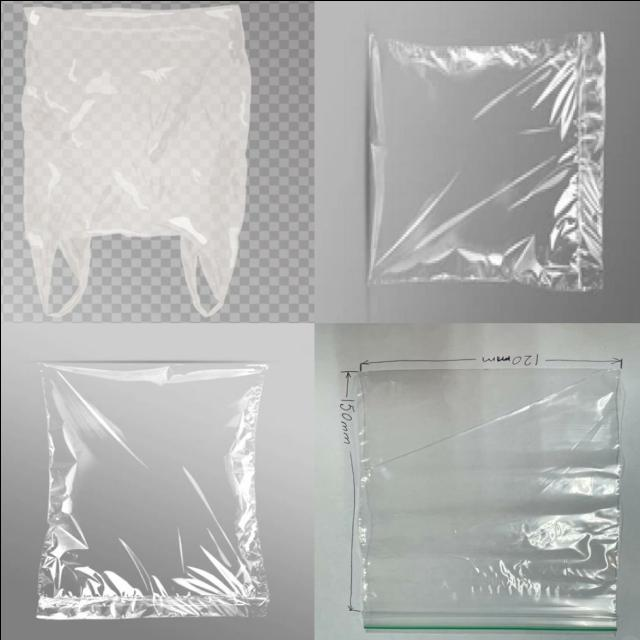plastik: (21, 4, 250, 315), (357, 364, 620, 630), (368, 32, 605, 292), (36, 361, 267, 619)
